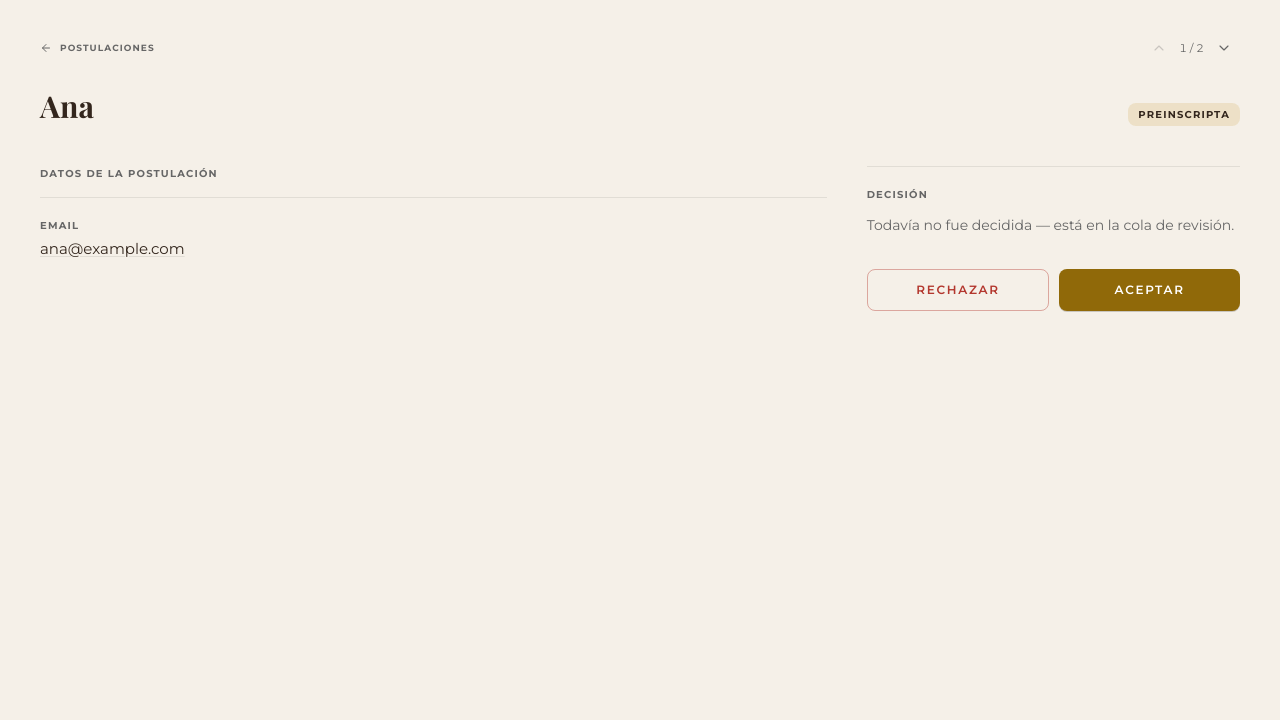
Scenario: AdminPostulacionDetalle — guard 2: el atajo ignora el panel de decisión abierto › ↓ con el panel abierto (foco fuera de un campo) tampoco cambia de postulación
The image size is (1280, 720).
Click the button "Aceptar" at (1150, 290), box [1059,269,1240,311]
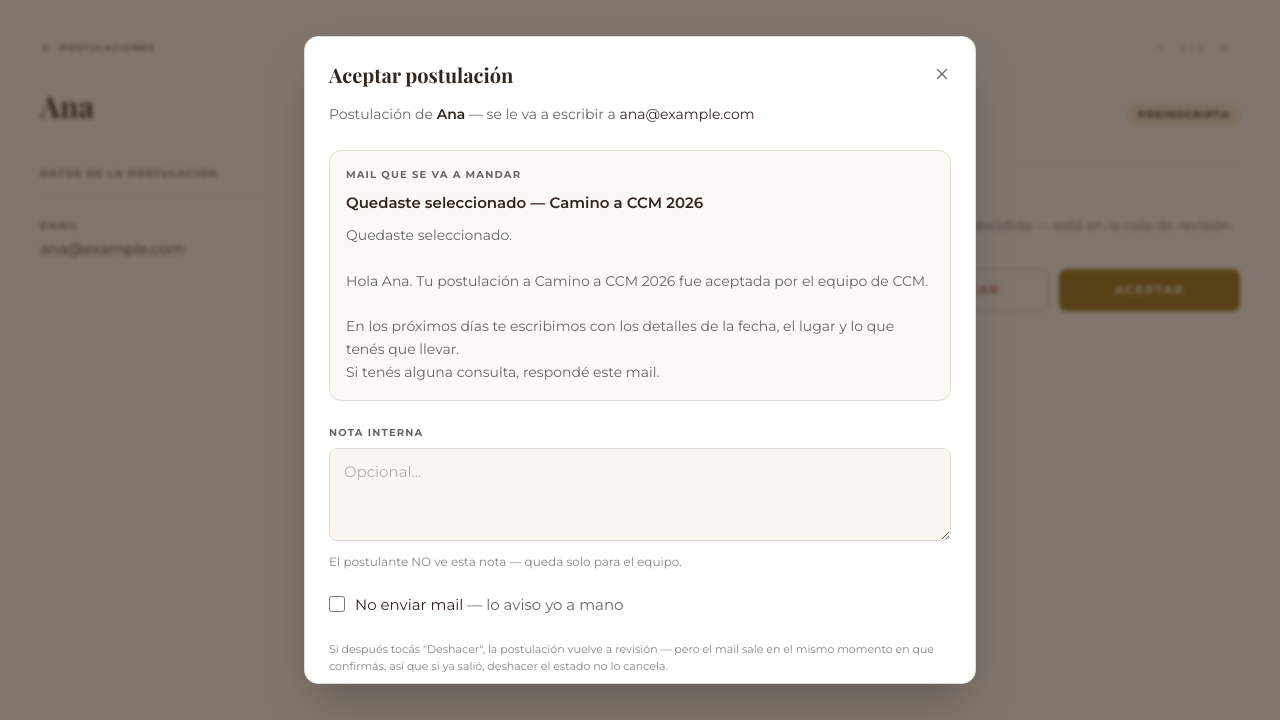
Press ArrowDown
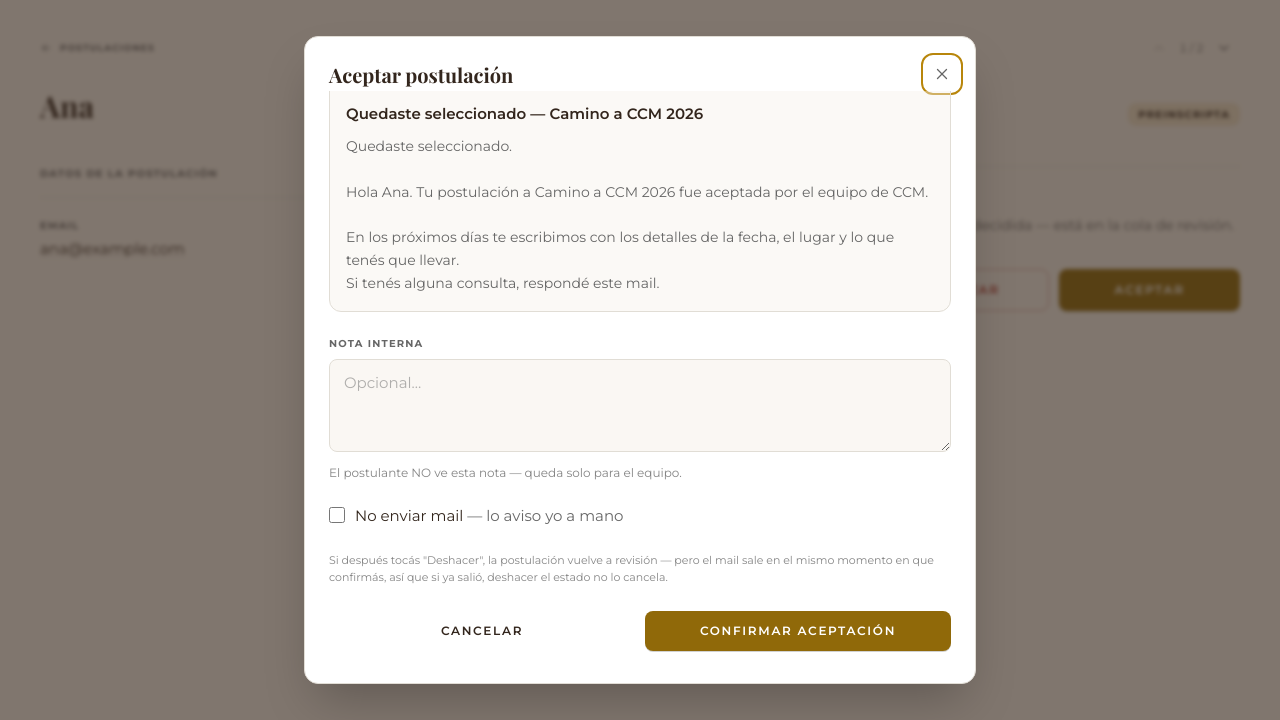
Check: the heading "Ana" is shown, box [40,88,94,124]
Check: the button "Confirmar aceptación" is shown, box [645,611,951,651]
